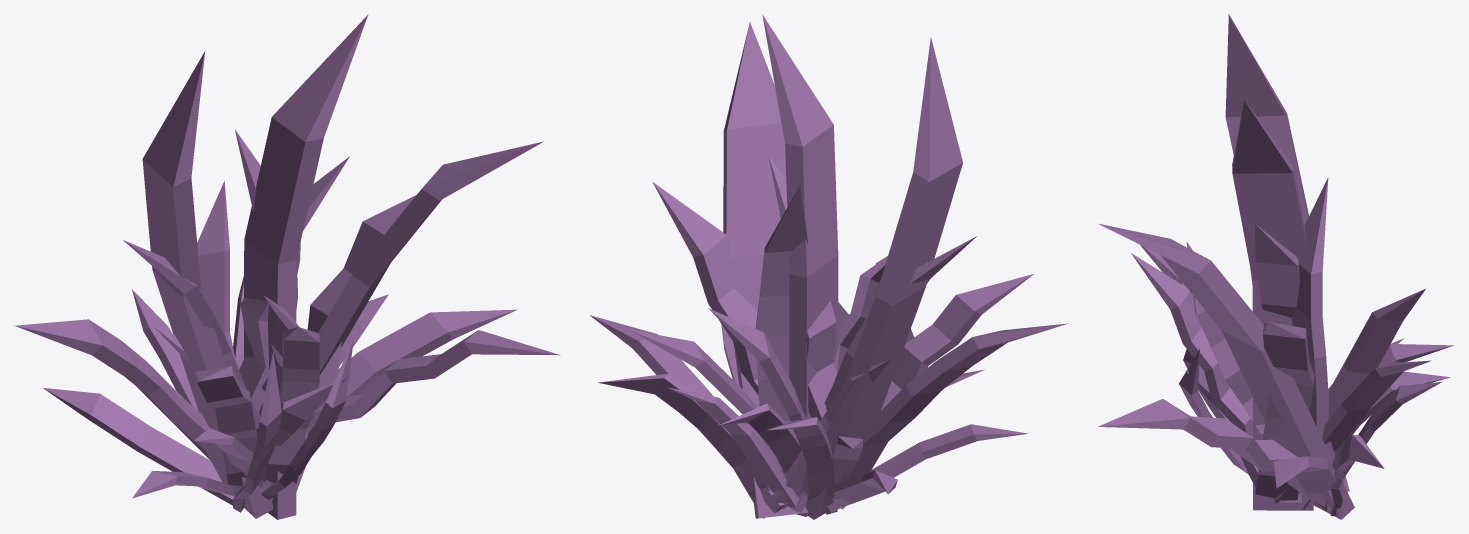
File: Pasto_1.fbx
3 views of the same model, side by side, from view 1: azimuth 30°, elevation 25°; view 2: azimuth 150°, elevation 25°; view 3: azimuth 270°, elevation 25° (orthographic). The views are drawn at different scales.
Visible parts, largest first — view 1: Cube.009; view 2: Cube.009; view 3: Cube.009.
Part boxes in pixels (x1,y1,x2,y2): Cube.009: (14,14,560,519); Cube.009: (589,14,1067,519); Cube.009: (1098,14,1453,519).
Size of the model in its own units: 164 by 154 by 110.
